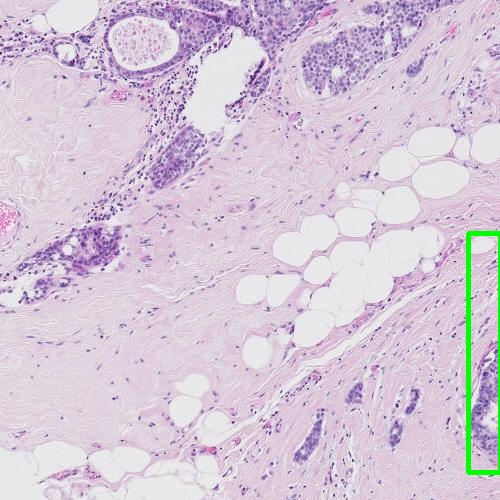DCIS: (468, 233, 500, 472)
